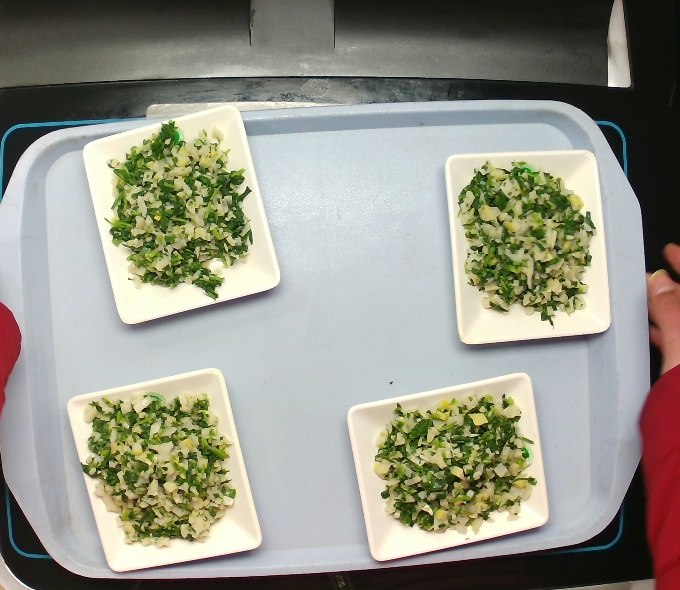wcq-MaLanTouBanChunSun: (360, 383, 544, 540), (78, 380, 241, 552), (97, 129, 263, 294), (454, 156, 600, 333)
